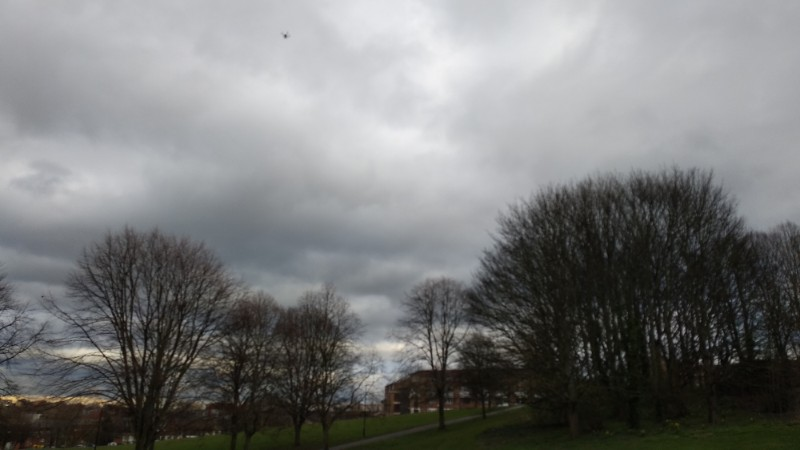drone: (282, 31, 291, 40)
